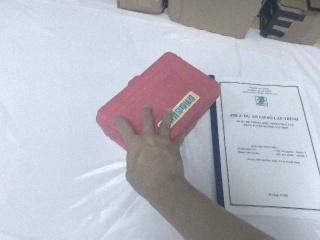box: (163, 1, 276, 41), (259, 1, 320, 45), (116, 1, 168, 14)
